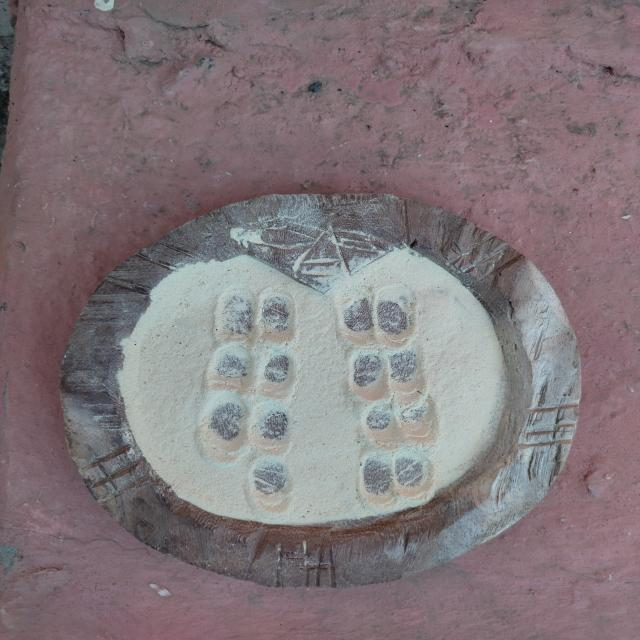double: (199, 398, 292, 462), (332, 284, 420, 350), (206, 345, 304, 401), (212, 286, 302, 346), (344, 346, 430, 406), (356, 449, 435, 507), (359, 398, 442, 452)
single: (245, 452, 298, 518)
